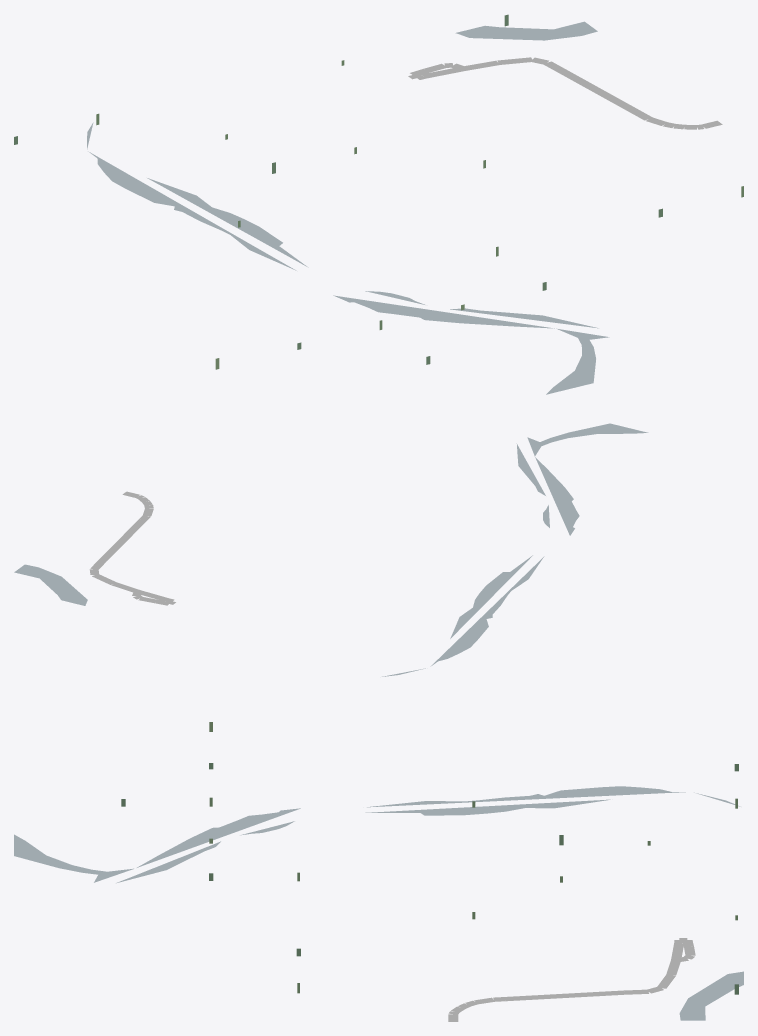
3 renders of one model, top to bottom at view 1: azimuth 30°, elevation 25°; view 2: azimuth 150°, elevation 25°; view 3: azimuth 270°, elevation 25°, orthographic. The views are drawn at different scales.
Size of the model in its own units: 466 by 10.49 by 500.
